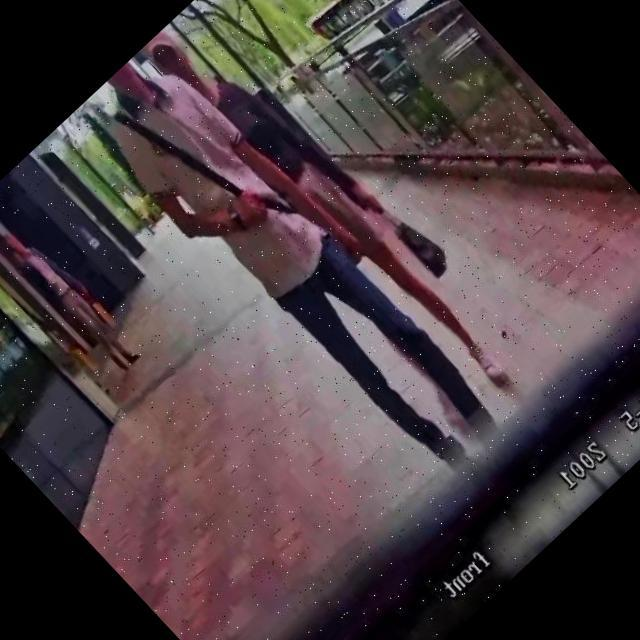person: (72, 34, 510, 490), (140, 2, 528, 410), (0, 219, 147, 377), (3, 244, 105, 351)
